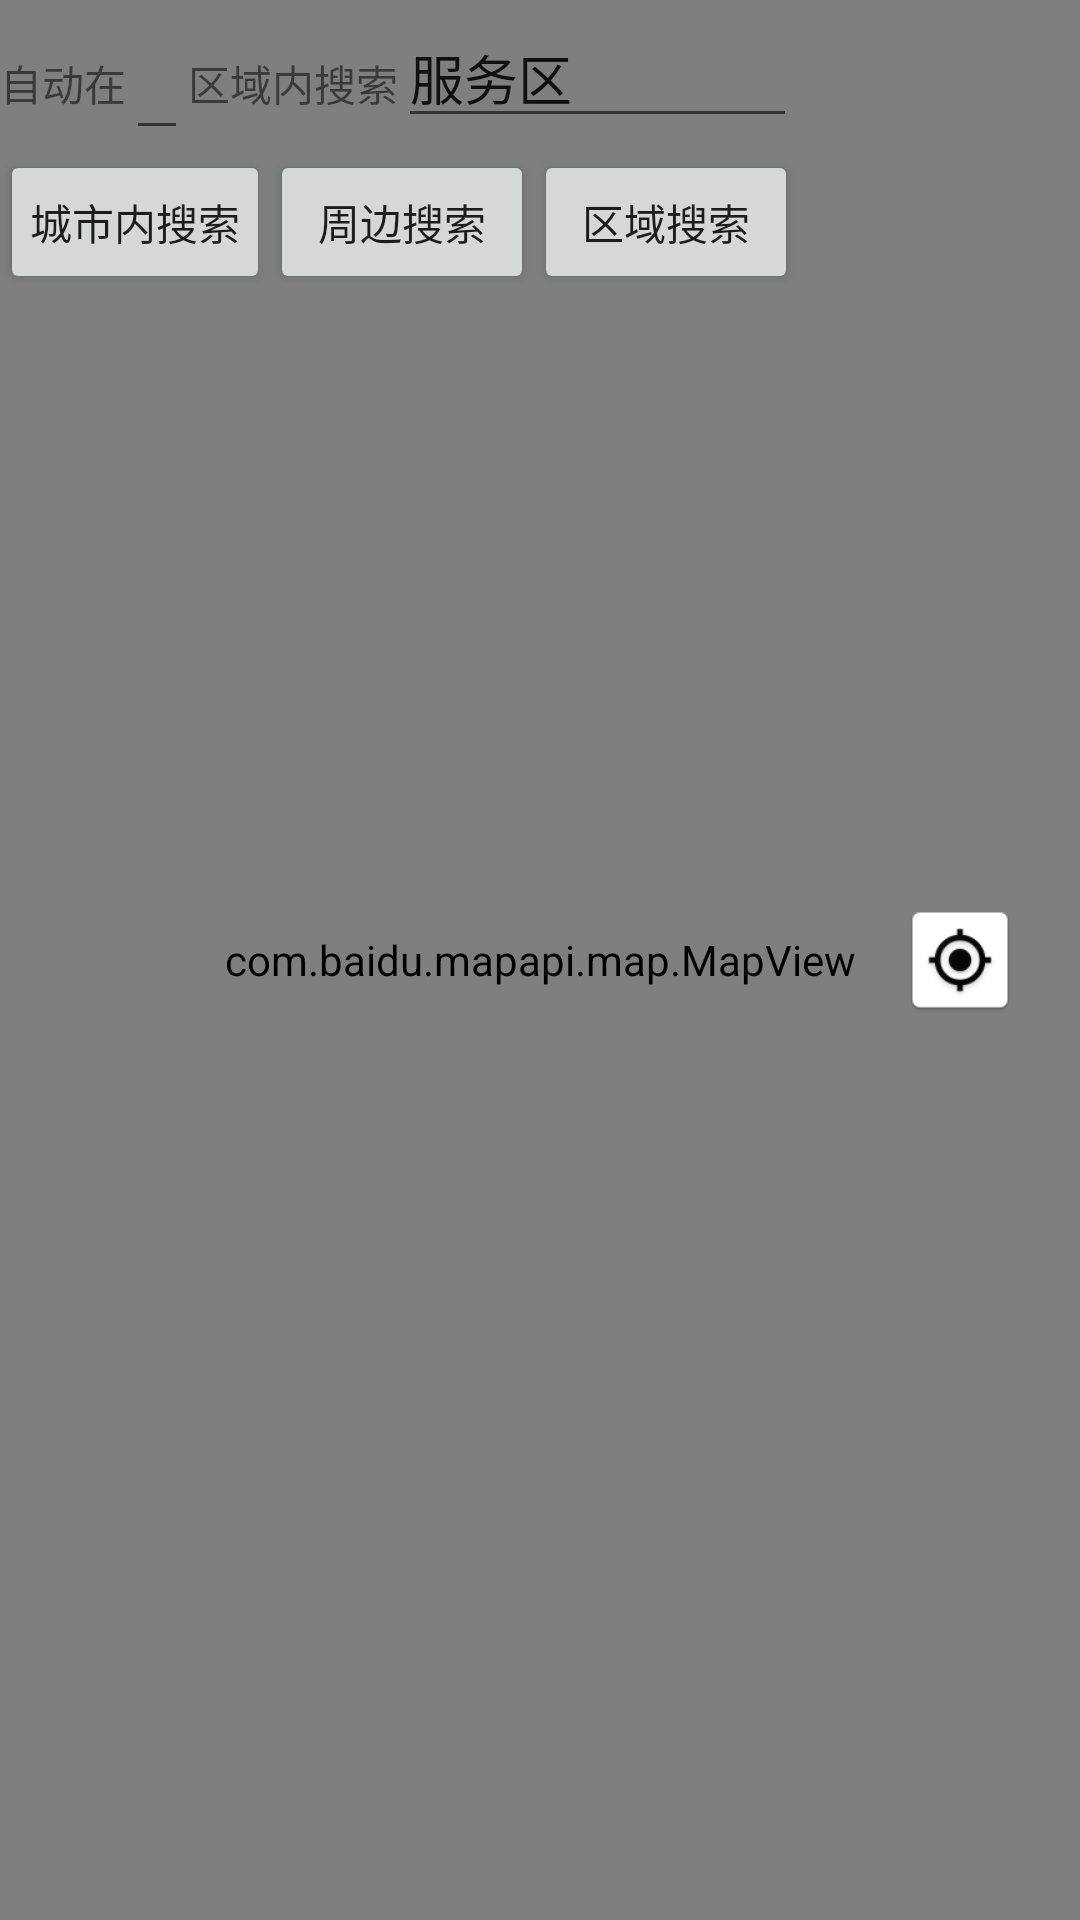

Screen size 1080*1920. Icon name, then its center in pixels as [x,y]:
gps fix: [960,960]
